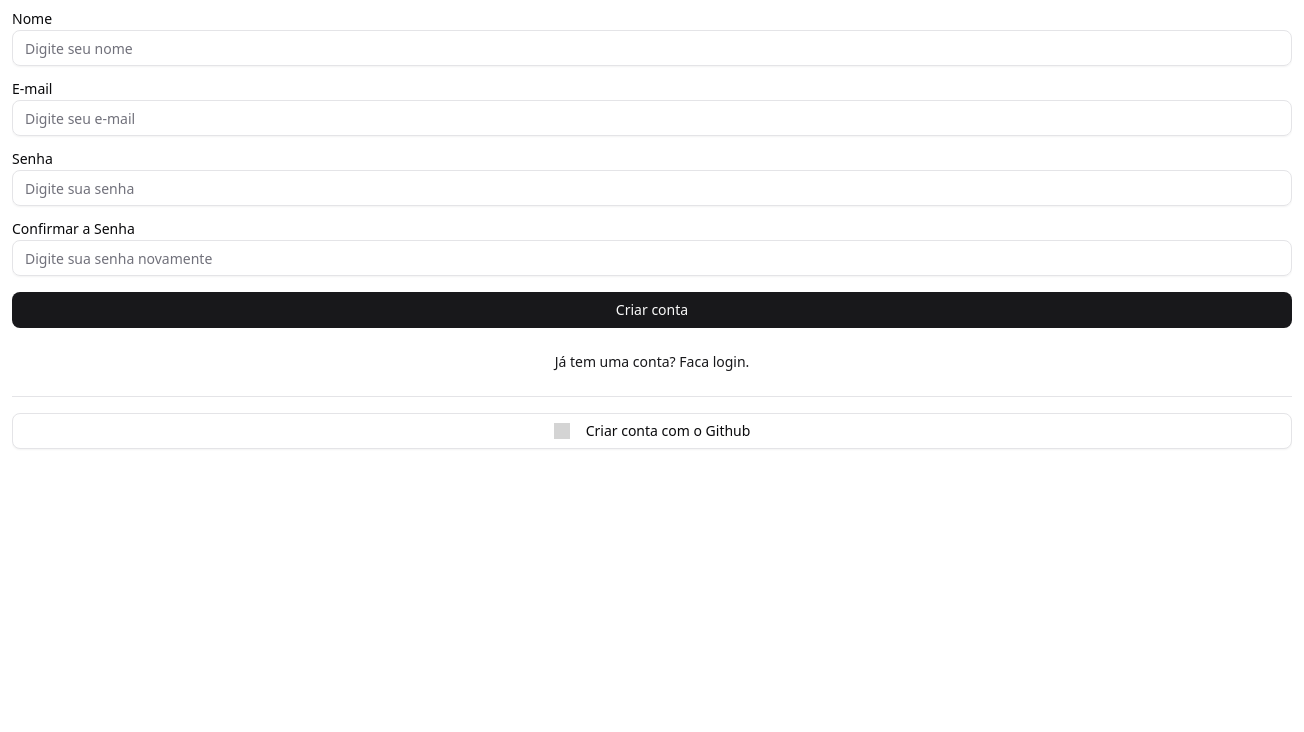
Test: <SignUpForm /> › should show general error alert when sign up fails
Type "João Silva" into the field named "e-mail" at coordinates (652, 48), box left=12, top=30, right=1292, bottom=66
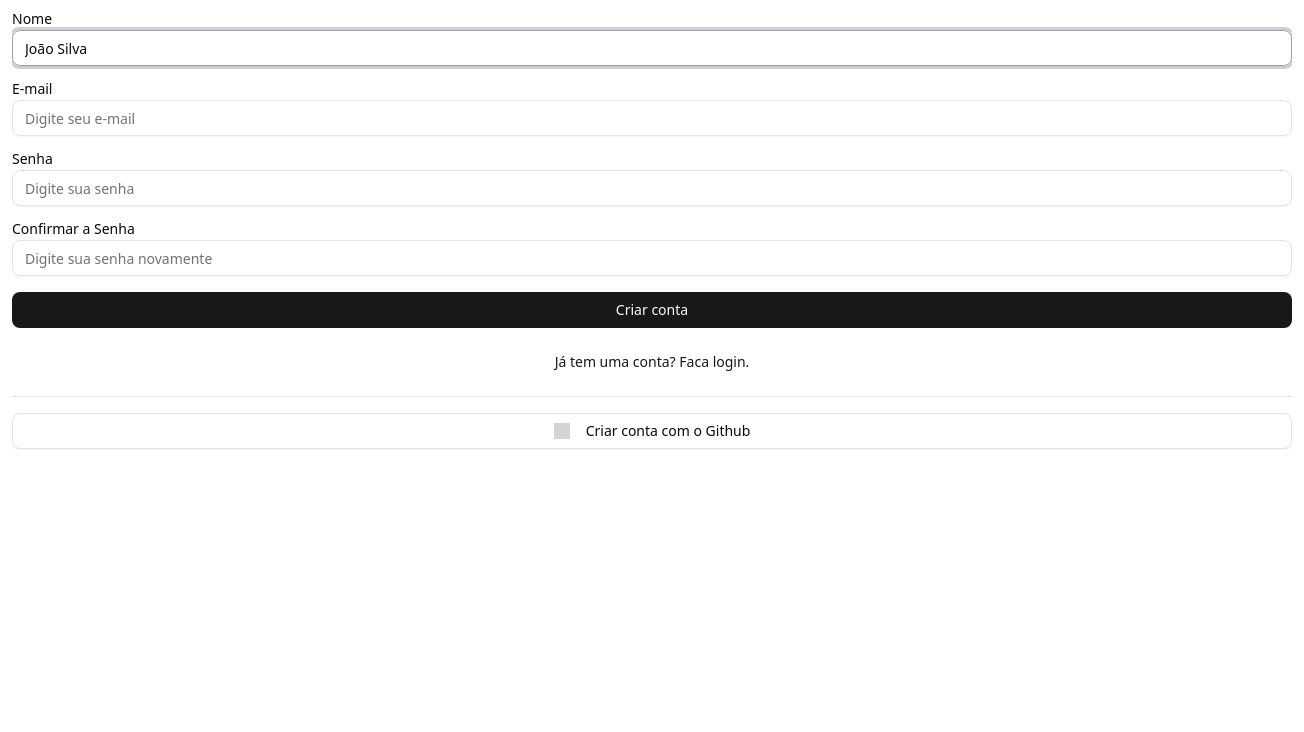
Type "existing@example.com" into the field named "e-mail" at coordinates (652, 48), box left=12, top=30, right=1292, bottom=66
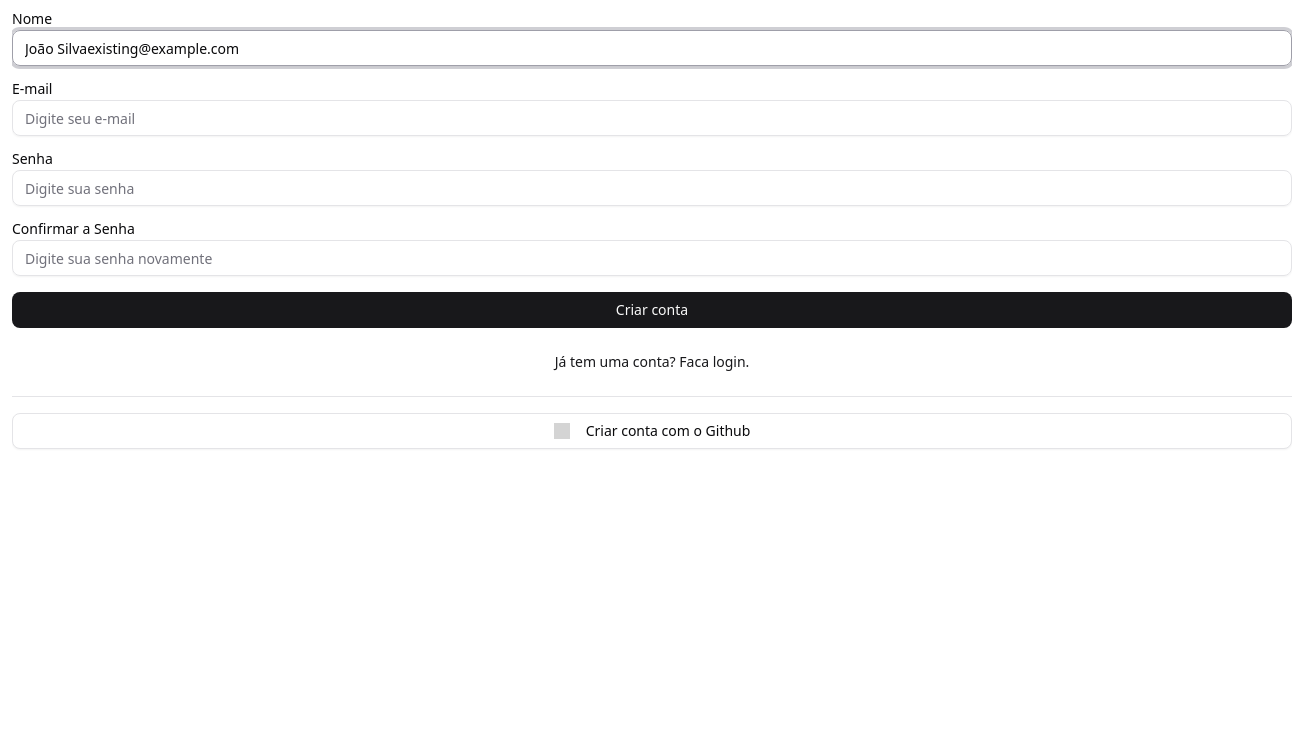
Type "password123" into the password field labelled "Senha" at coordinates (652, 188), box left=12, top=170, right=1292, bottom=206
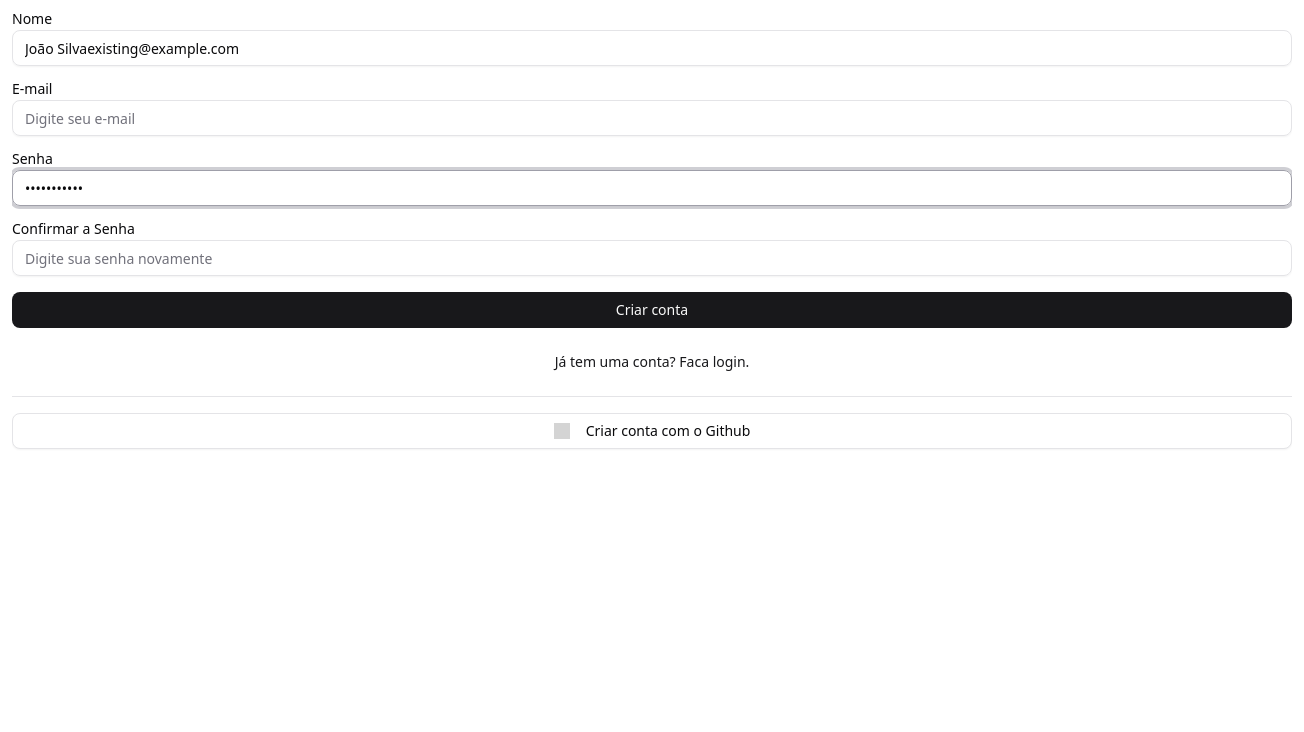
Type "password123" into the password field labelled "Confirmar a Senha" at coordinates (652, 258), box left=12, top=240, right=1292, bottom=276
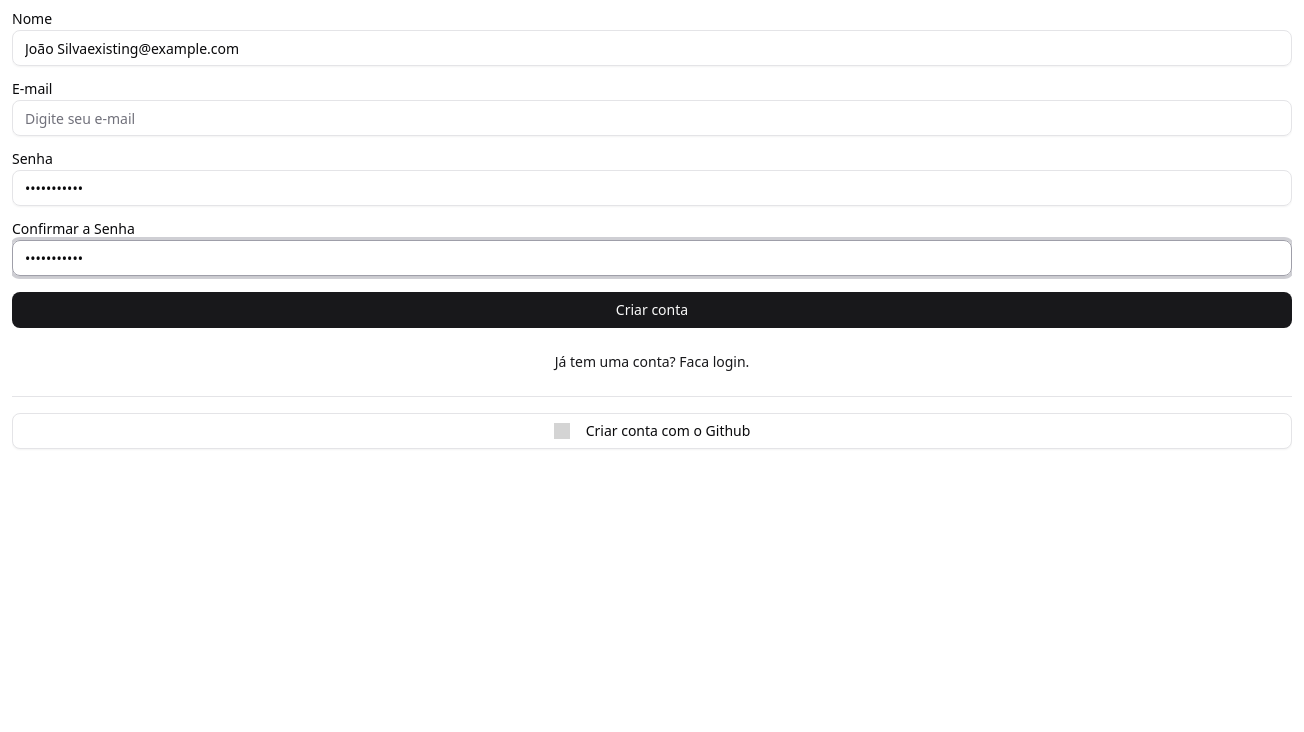
Click the button "Criar conta" at coordinates (652, 310), box left=12, top=292, right=1292, bottom=328
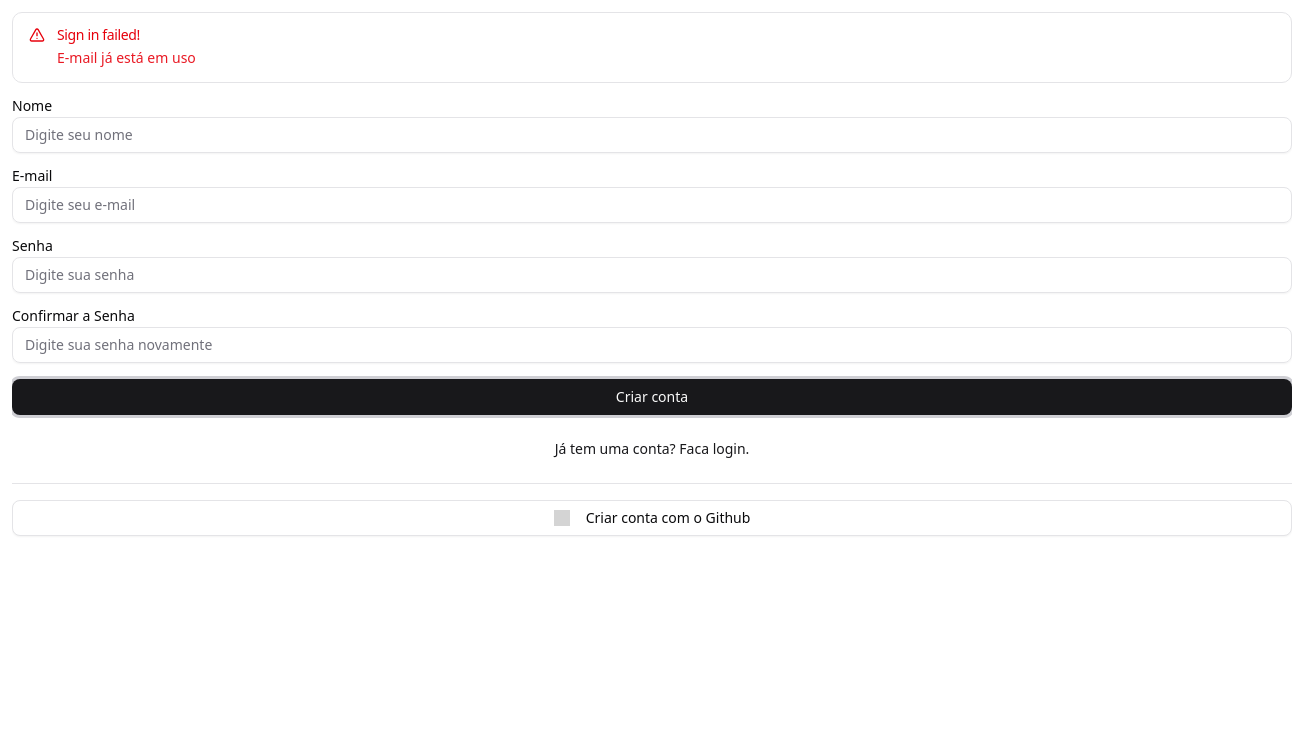
Check: the message "Sign in failed! E-mail já está em uso" is shown, box left=12, top=12, right=1292, bottom=83
Check: the text "Sign in failed!" is shown, box left=57, top=25, right=140, bottom=44
Check: the text "E-mail já está em uso" is shown, box left=57, top=47, right=196, bottom=70
